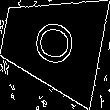O_W: (26, 17, 78, 70)
